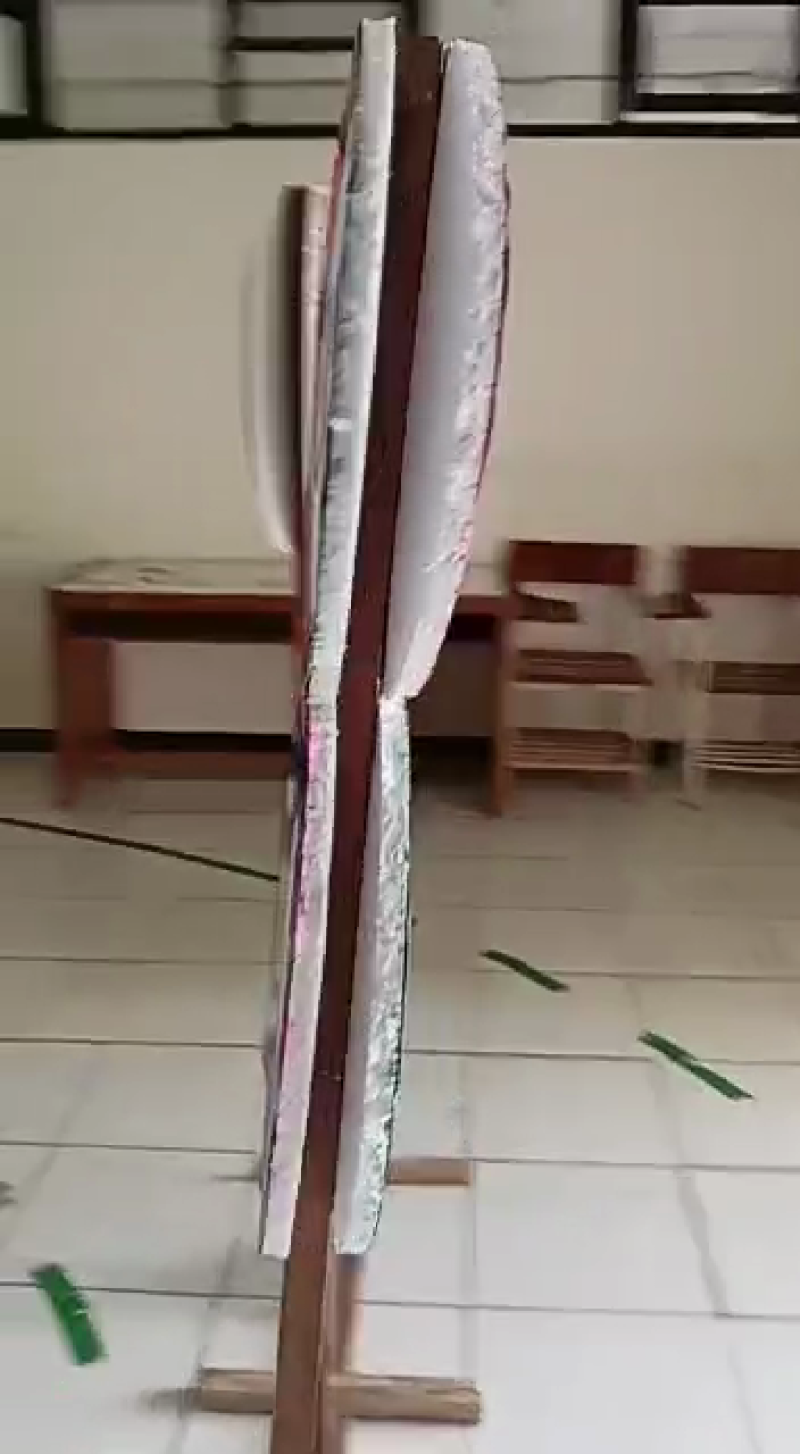batas maksimal 100kmperjam minimal 60kmperjam: (248, 16, 524, 1285)
